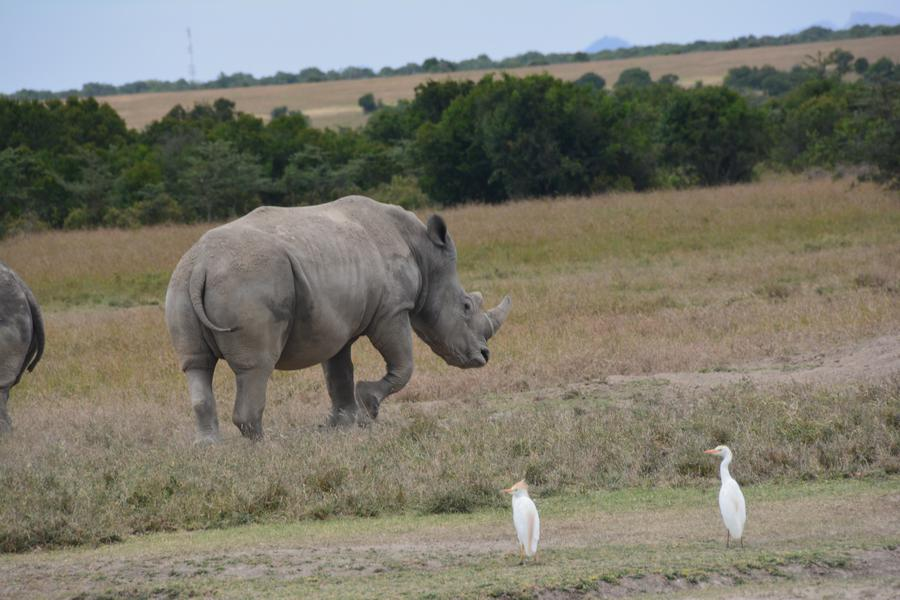rhino: (164, 187, 455, 437)
